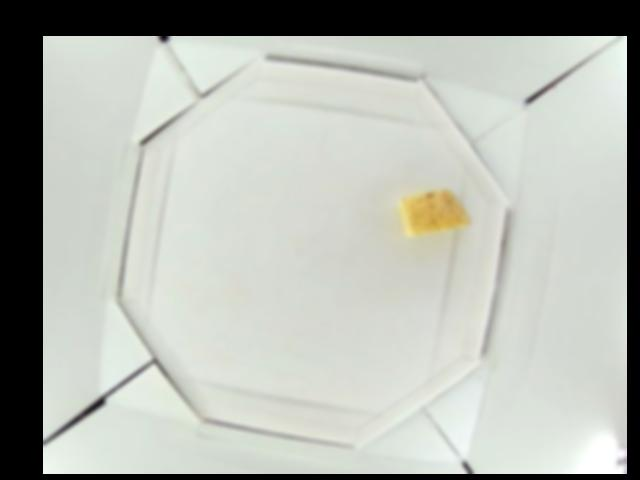Potato: (397, 184, 472, 238)
